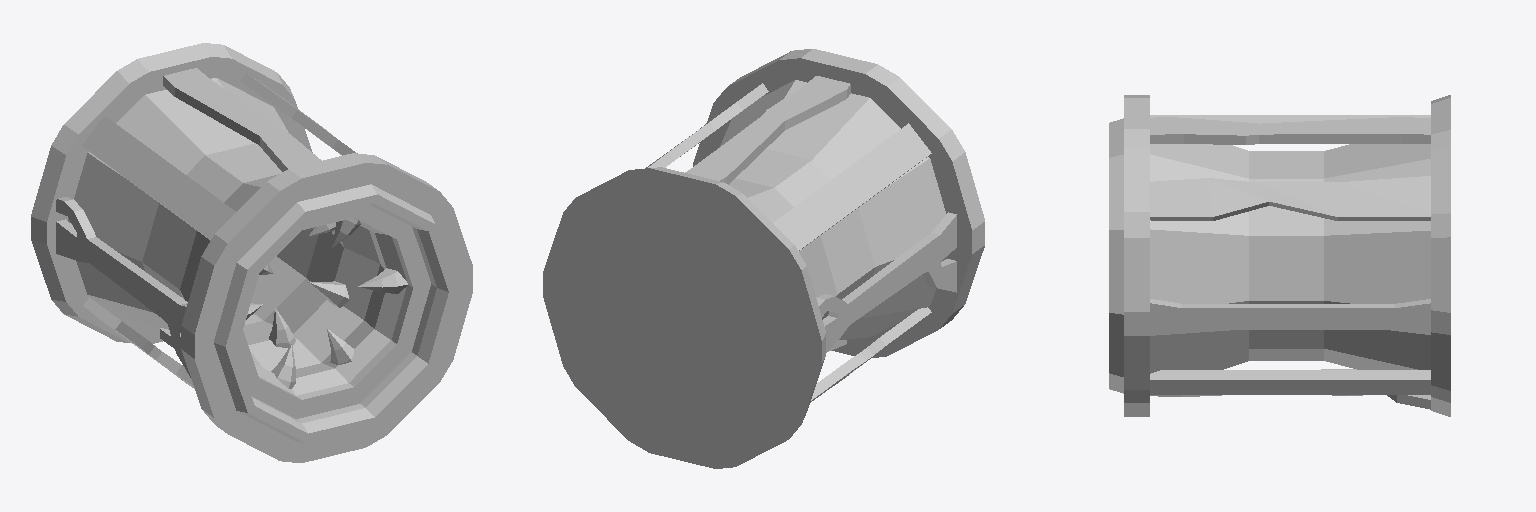
The model's file is Trashcan.obj.
3 views of the same model, side by side, from view 1: azimuth 30°, elevation 25°; view 2: azimuth 150°, elevation 25°; view 3: azimuth 270°, elevation 25° (orthographic).
Parts seen in each view (by area): view 1: Trashcan; view 2: Trashcan; view 3: Trashcan.
Boxes of the visible parts, box(x1,y1,x2,y2) form: Trashcan: box(31, 43, 472, 462); Trashcan: box(543, 49, 984, 468); Trashcan: box(1109, 95, 1450, 416).
Size of the model in its own units: 107 by 105 by 114.